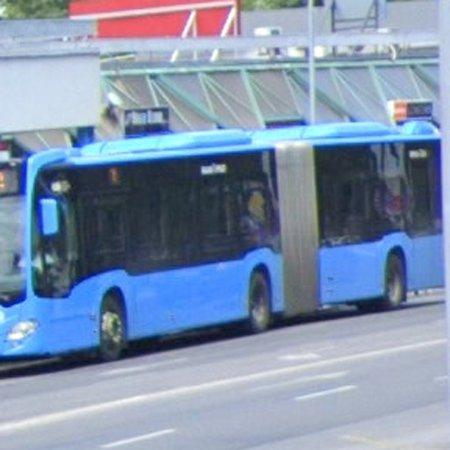buses: (0, 121, 444, 359)
